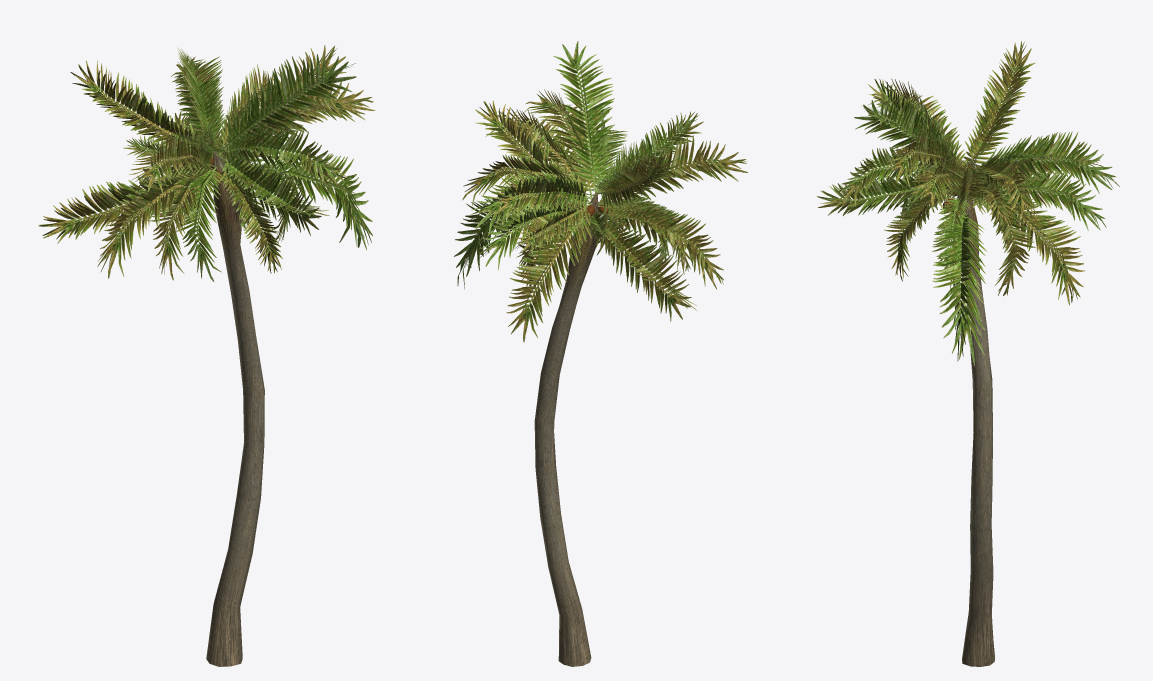
The model's file is coconut_palm9.fbx.
3 views of the same model, side by side, from view 1: azimuth 30°, elevation 25°; view 2: azimuth 150°, elevation 25°; view 3: azimuth 270°, elevation 25° (orthographic). The views are drawn at different scales.
Visible parts, largest first — view 1: coconut_palm9_leaves, coconut_palm9_trunk; view 2: coconut_palm9_leaves, coconut_palm9_trunk; view 3: coconut_palm9_leaves, coconut_palm9_trunk.
Part boxes in pixels (<box>): coconut_palm9_leaves: <box>38,45,375,281</box>; coconut_palm9_trunk: <box>206,151,264,666</box>; coconut_palm9_leaves: <box>454,41,748,342</box>; coconut_palm9_trunk: <box>534,192,598,666</box>; coconut_palm9_leaves: <box>816,41,1119,365</box>; coconut_palm9_trunk: <box>951,172,994,666</box>.
Bounding box in the file's own units: 344 × 624 × 316.
